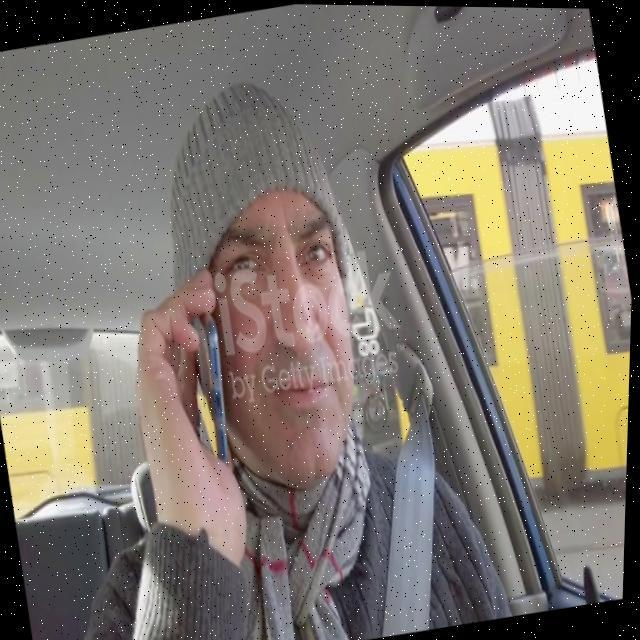PhoneCall: (165, 284, 258, 478)
